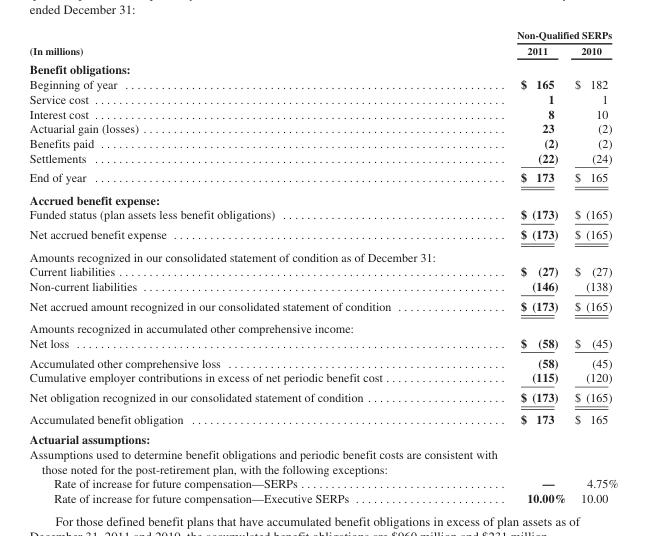table: (28, 28, 617, 504)
table column: (28, 28, 453, 504), (453, 28, 569, 504), (569, 28, 617, 504)
table column header: (28, 28, 617, 59)
table projected row header: (28, 446, 617, 475), (28, 316, 617, 335), (28, 188, 617, 206), (28, 245, 617, 263), (28, 59, 617, 76), (28, 429, 617, 446)
table row: (28, 446, 617, 475), (28, 407, 617, 429), (28, 167, 617, 188), (28, 224, 617, 245), (28, 295, 617, 316), (28, 386, 617, 407), (28, 316, 617, 335), (28, 149, 617, 167), (28, 188, 617, 206), (28, 206, 617, 224), (28, 245, 617, 263), (28, 42, 617, 59), (28, 59, 617, 76), (28, 278, 617, 295), (28, 335, 617, 352), (28, 352, 617, 369), (28, 369, 617, 386), (28, 429, 617, 446), (28, 76, 617, 91), (28, 105, 617, 120), (28, 120, 617, 135), (28, 263, 617, 278), (28, 475, 617, 490), (28, 28, 617, 42), (28, 91, 617, 105), (28, 135, 617, 149), (28, 490, 617, 504)
table spanning cell: (28, 28, 453, 59), (453, 28, 617, 42)
